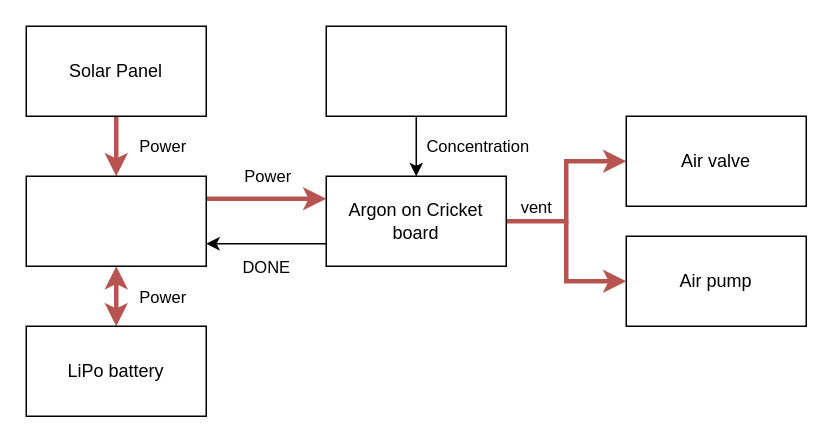
Some shapes in this 833 by 443 pixel diagram are drawn without their labels. Here are the shapes that lost their labels. From the top down, the centre of each, then its label:
the point at 415,70: Methane sensor
the point at 115,220: Power/Timing board
